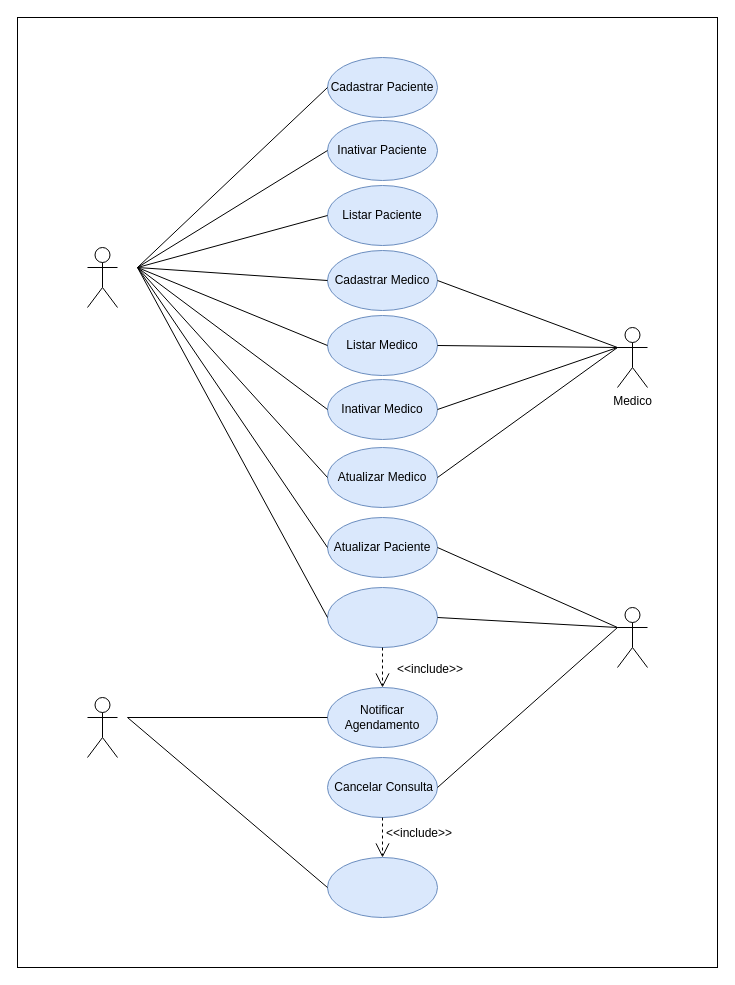
The diagram is 735 pixels wide and 985 high, and some of its shapes have lost their labels. Each missing label, with the centre of its shape:
Agendar Consulta: (x=382, y=617)
Funcionario / Admin: (x=102, y=277)
Notificar Cancelamento: (x=382, y=887)
Paciente: (x=632, y=637)
Sistema de Envio de Email: (x=102, y=727)
